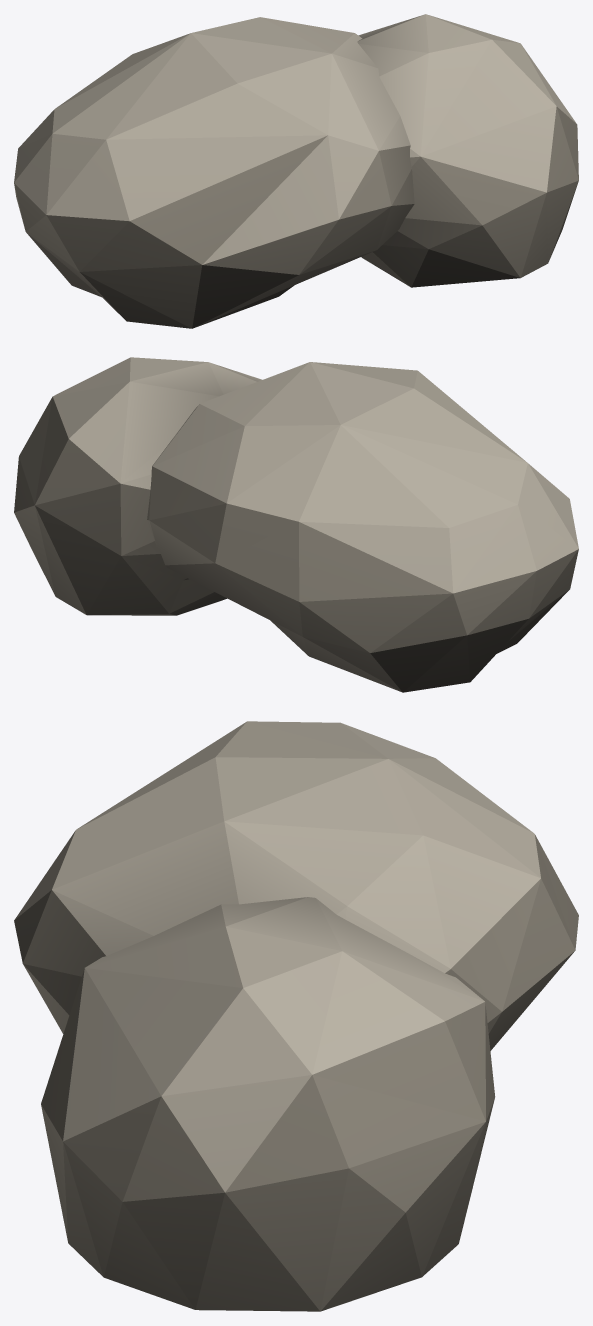
The model's file is rock_medium_b.glb.
The picture shows the model from 3 angles, top to bottom: view 1: azimuth 30°, elevation 25°; view 2: azimuth 150°, elevation 25°; view 3: azimuth 270°, elevation 25°; orthographic projection. The views are drawn at different scales.
Visible parts, largest first — view 1: Body; view 2: Body; view 3: Body.
Boxes of the visible parts, x1,y1,x2,y2 form: Body: [14, 14, 578, 328]; Body: [14, 357, 578, 692]; Body: [14, 721, 578, 1311].
Size of the model in its own units: 1.02 by 0.4192 by 0.6486.
Materials: 1 (1 with a texture image).
